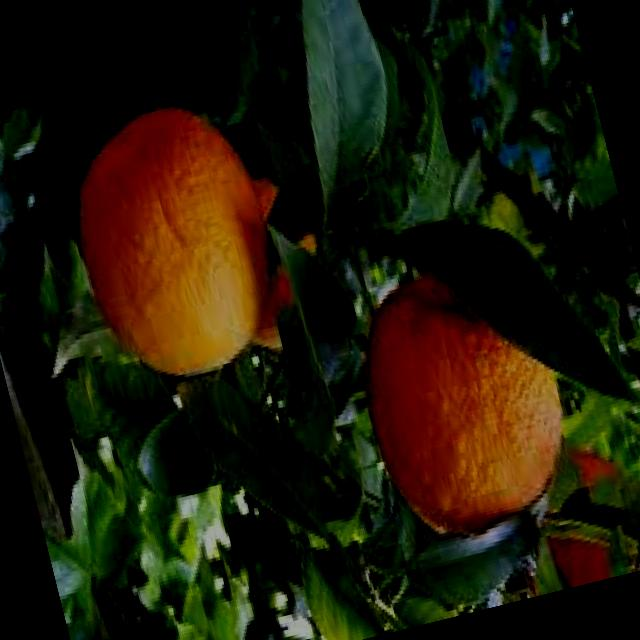Orange: (339, 252, 592, 557), (52, 90, 301, 398)
